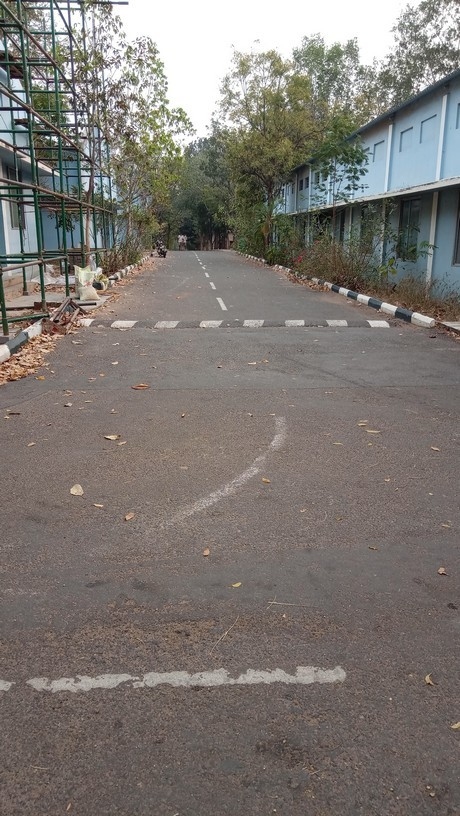bump: (63, 314, 417, 336)
